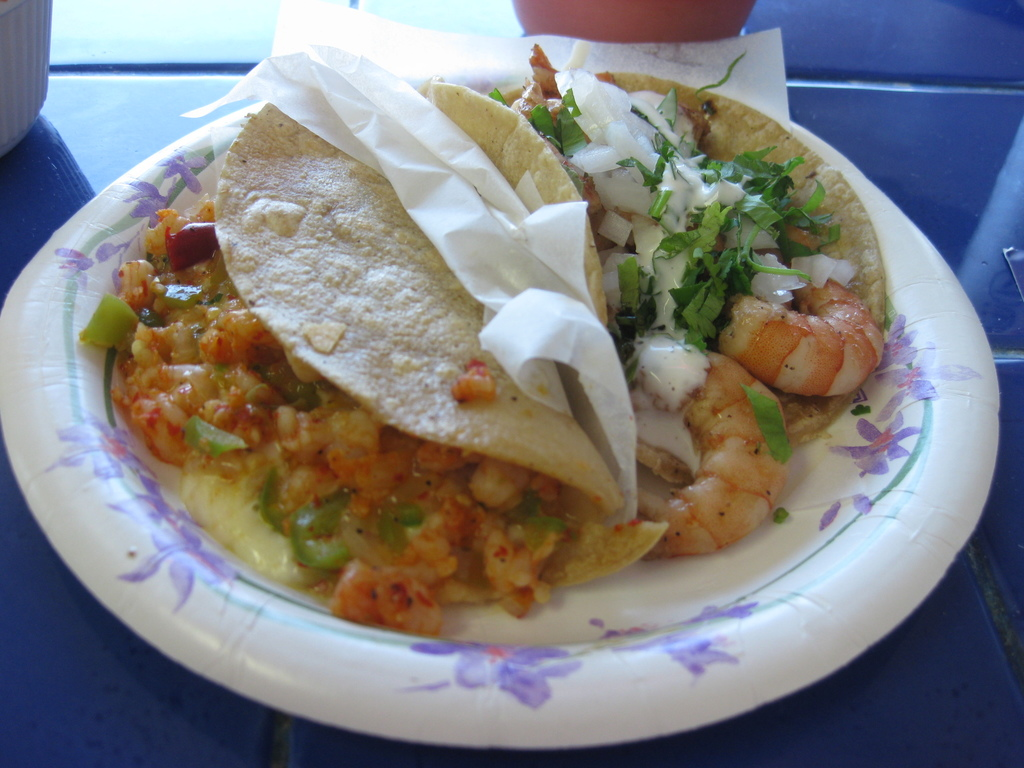taco: (83, 97, 665, 634), (511, 60, 886, 486)
